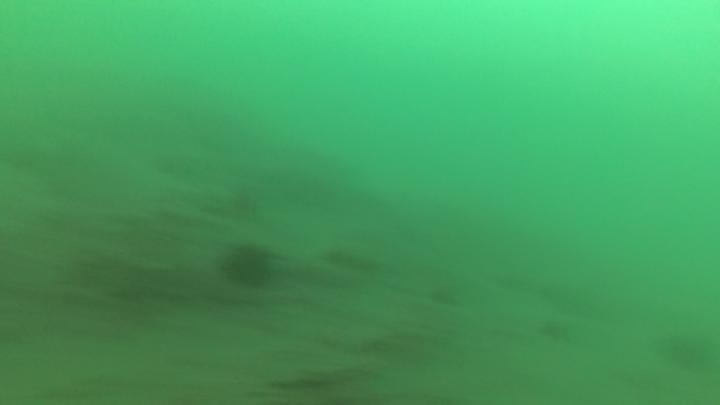echinus: (220, 241, 276, 292), (655, 328, 715, 374), (225, 185, 263, 225), (535, 315, 575, 347)
